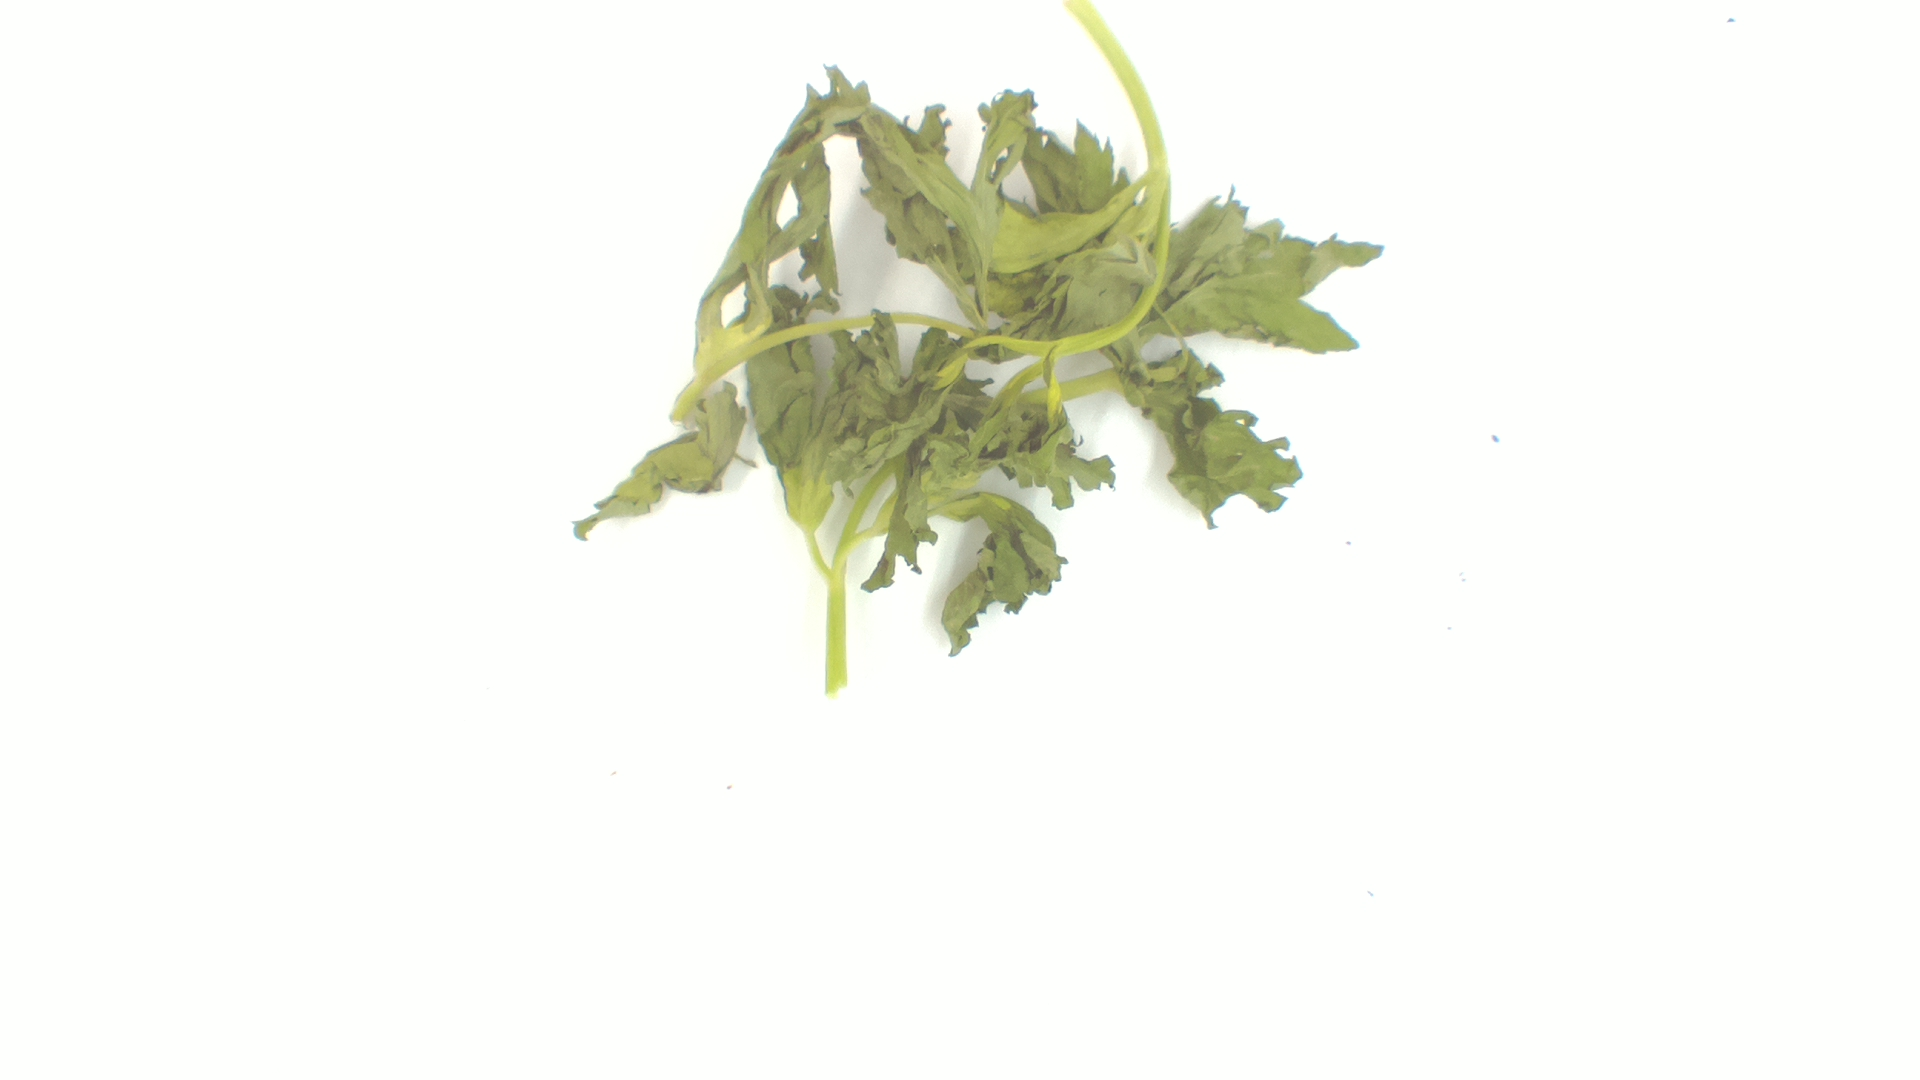vegetable: (567, 1, 1385, 704)
